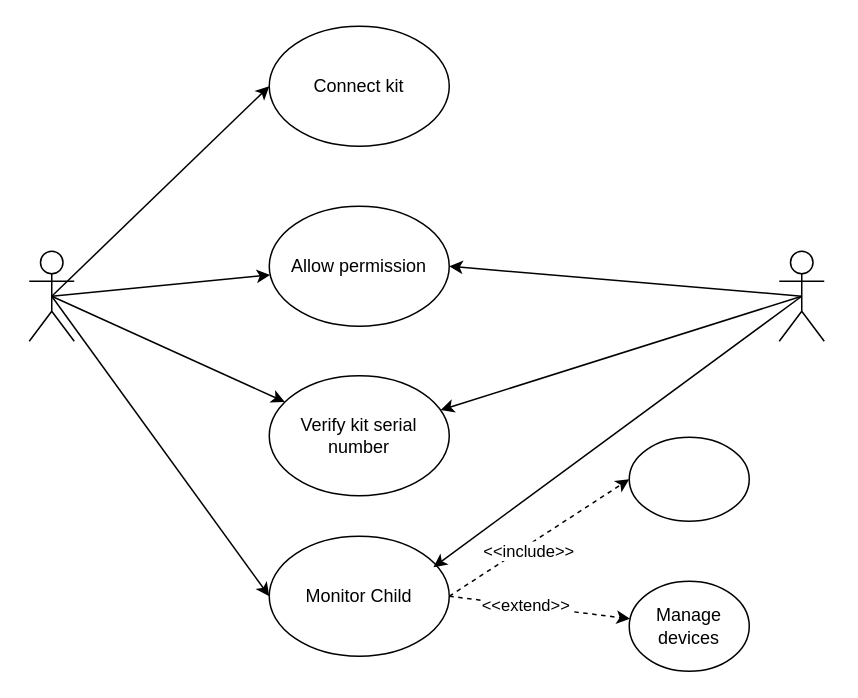
Some shapes in this 858 by 698 pixel diagram are drawn without their labels. The centre of each missing label's shape, as x and y in pixels:
Parent: (x=51, y=295)
Receive alert: (x=688, y=478)
Sensor: (x=801, y=295)
